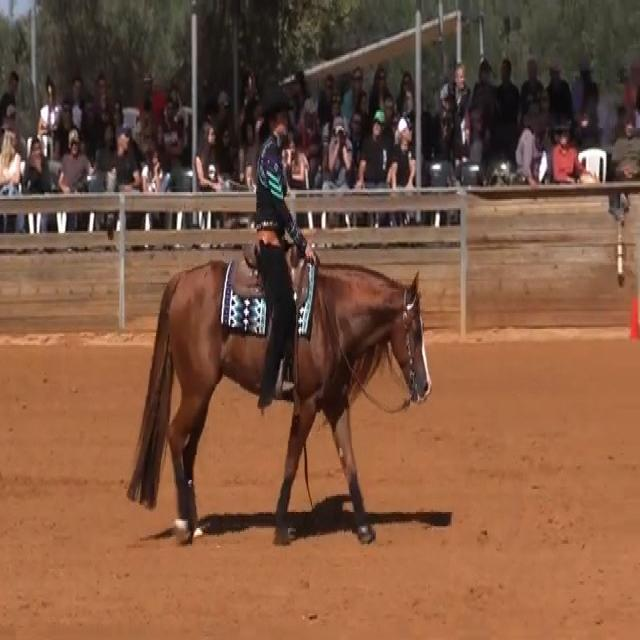horse: (126, 247, 433, 546)
